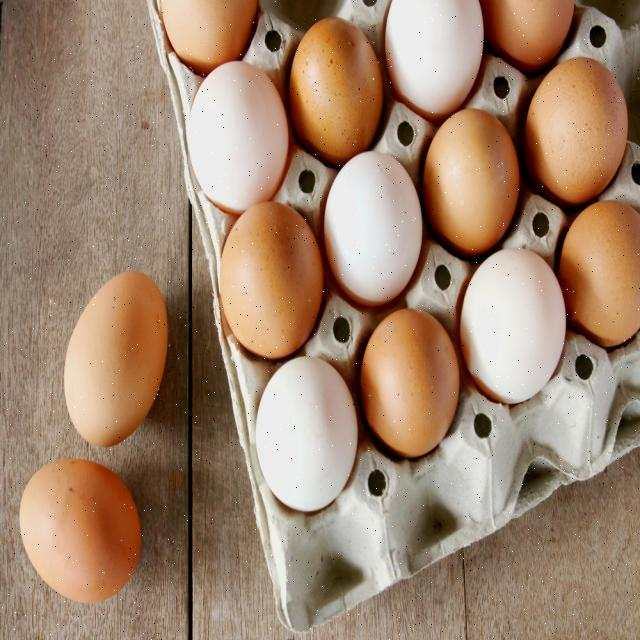Egg: (32, 239, 173, 445), (11, 464, 166, 613), (463, 250, 565, 468), (233, 355, 343, 555), (318, 151, 440, 287), (412, 118, 529, 251), (363, 321, 455, 480), (183, 66, 289, 201), (286, 11, 379, 159), (216, 212, 325, 336), (388, 2, 498, 116), (541, 52, 633, 184), (564, 207, 640, 339)
